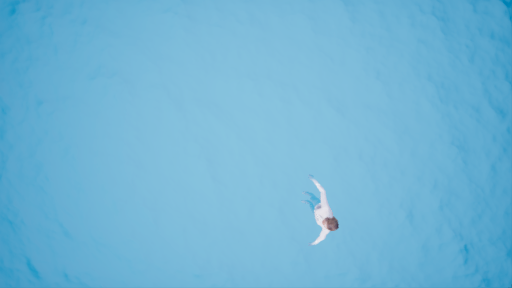person: (298, 174, 343, 248)
